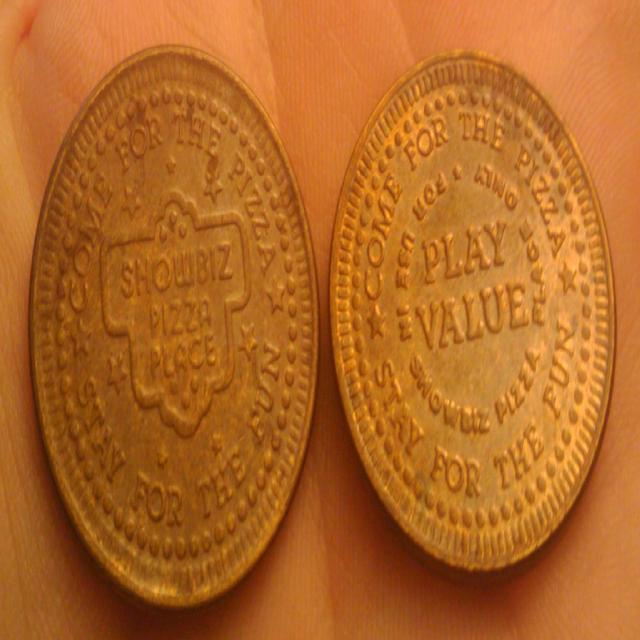Coin: (27, 39, 322, 610), (331, 46, 617, 577)
